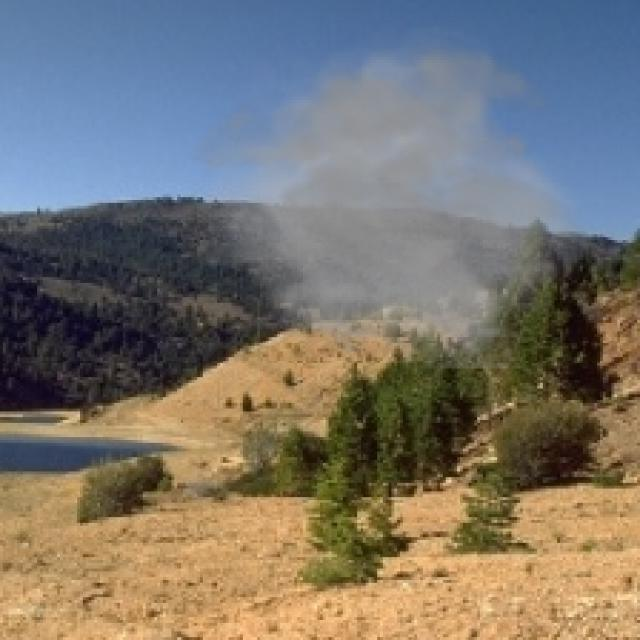smoke: (188, 14, 592, 369)
